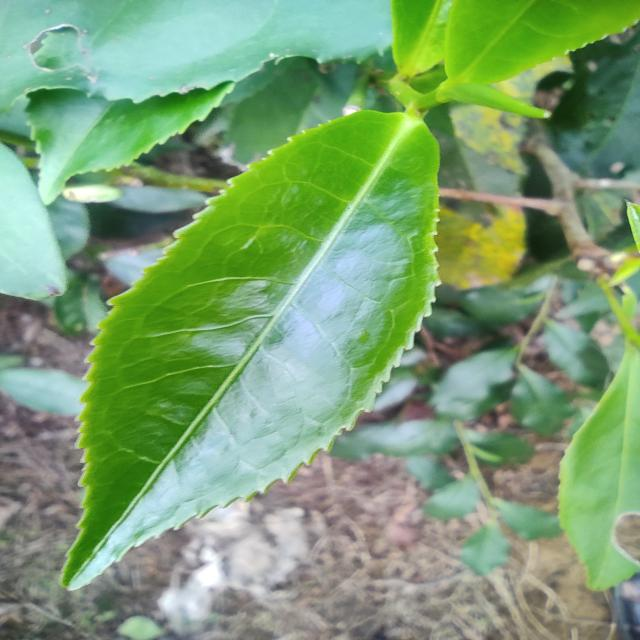Category C(4-7 days): (22, 87, 486, 613)
